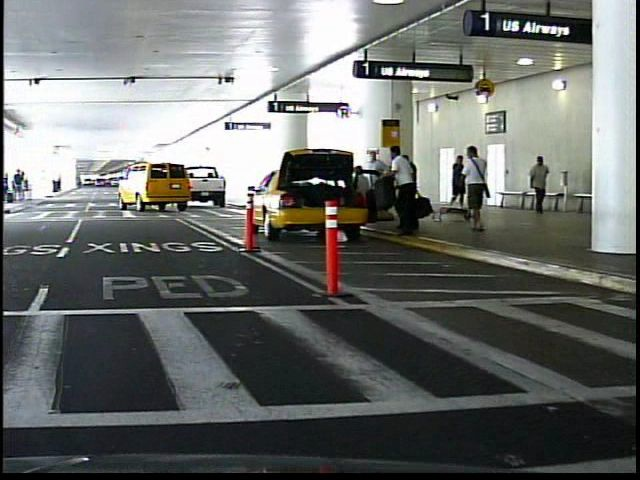person: (456, 143, 493, 234), (520, 151, 546, 213)
